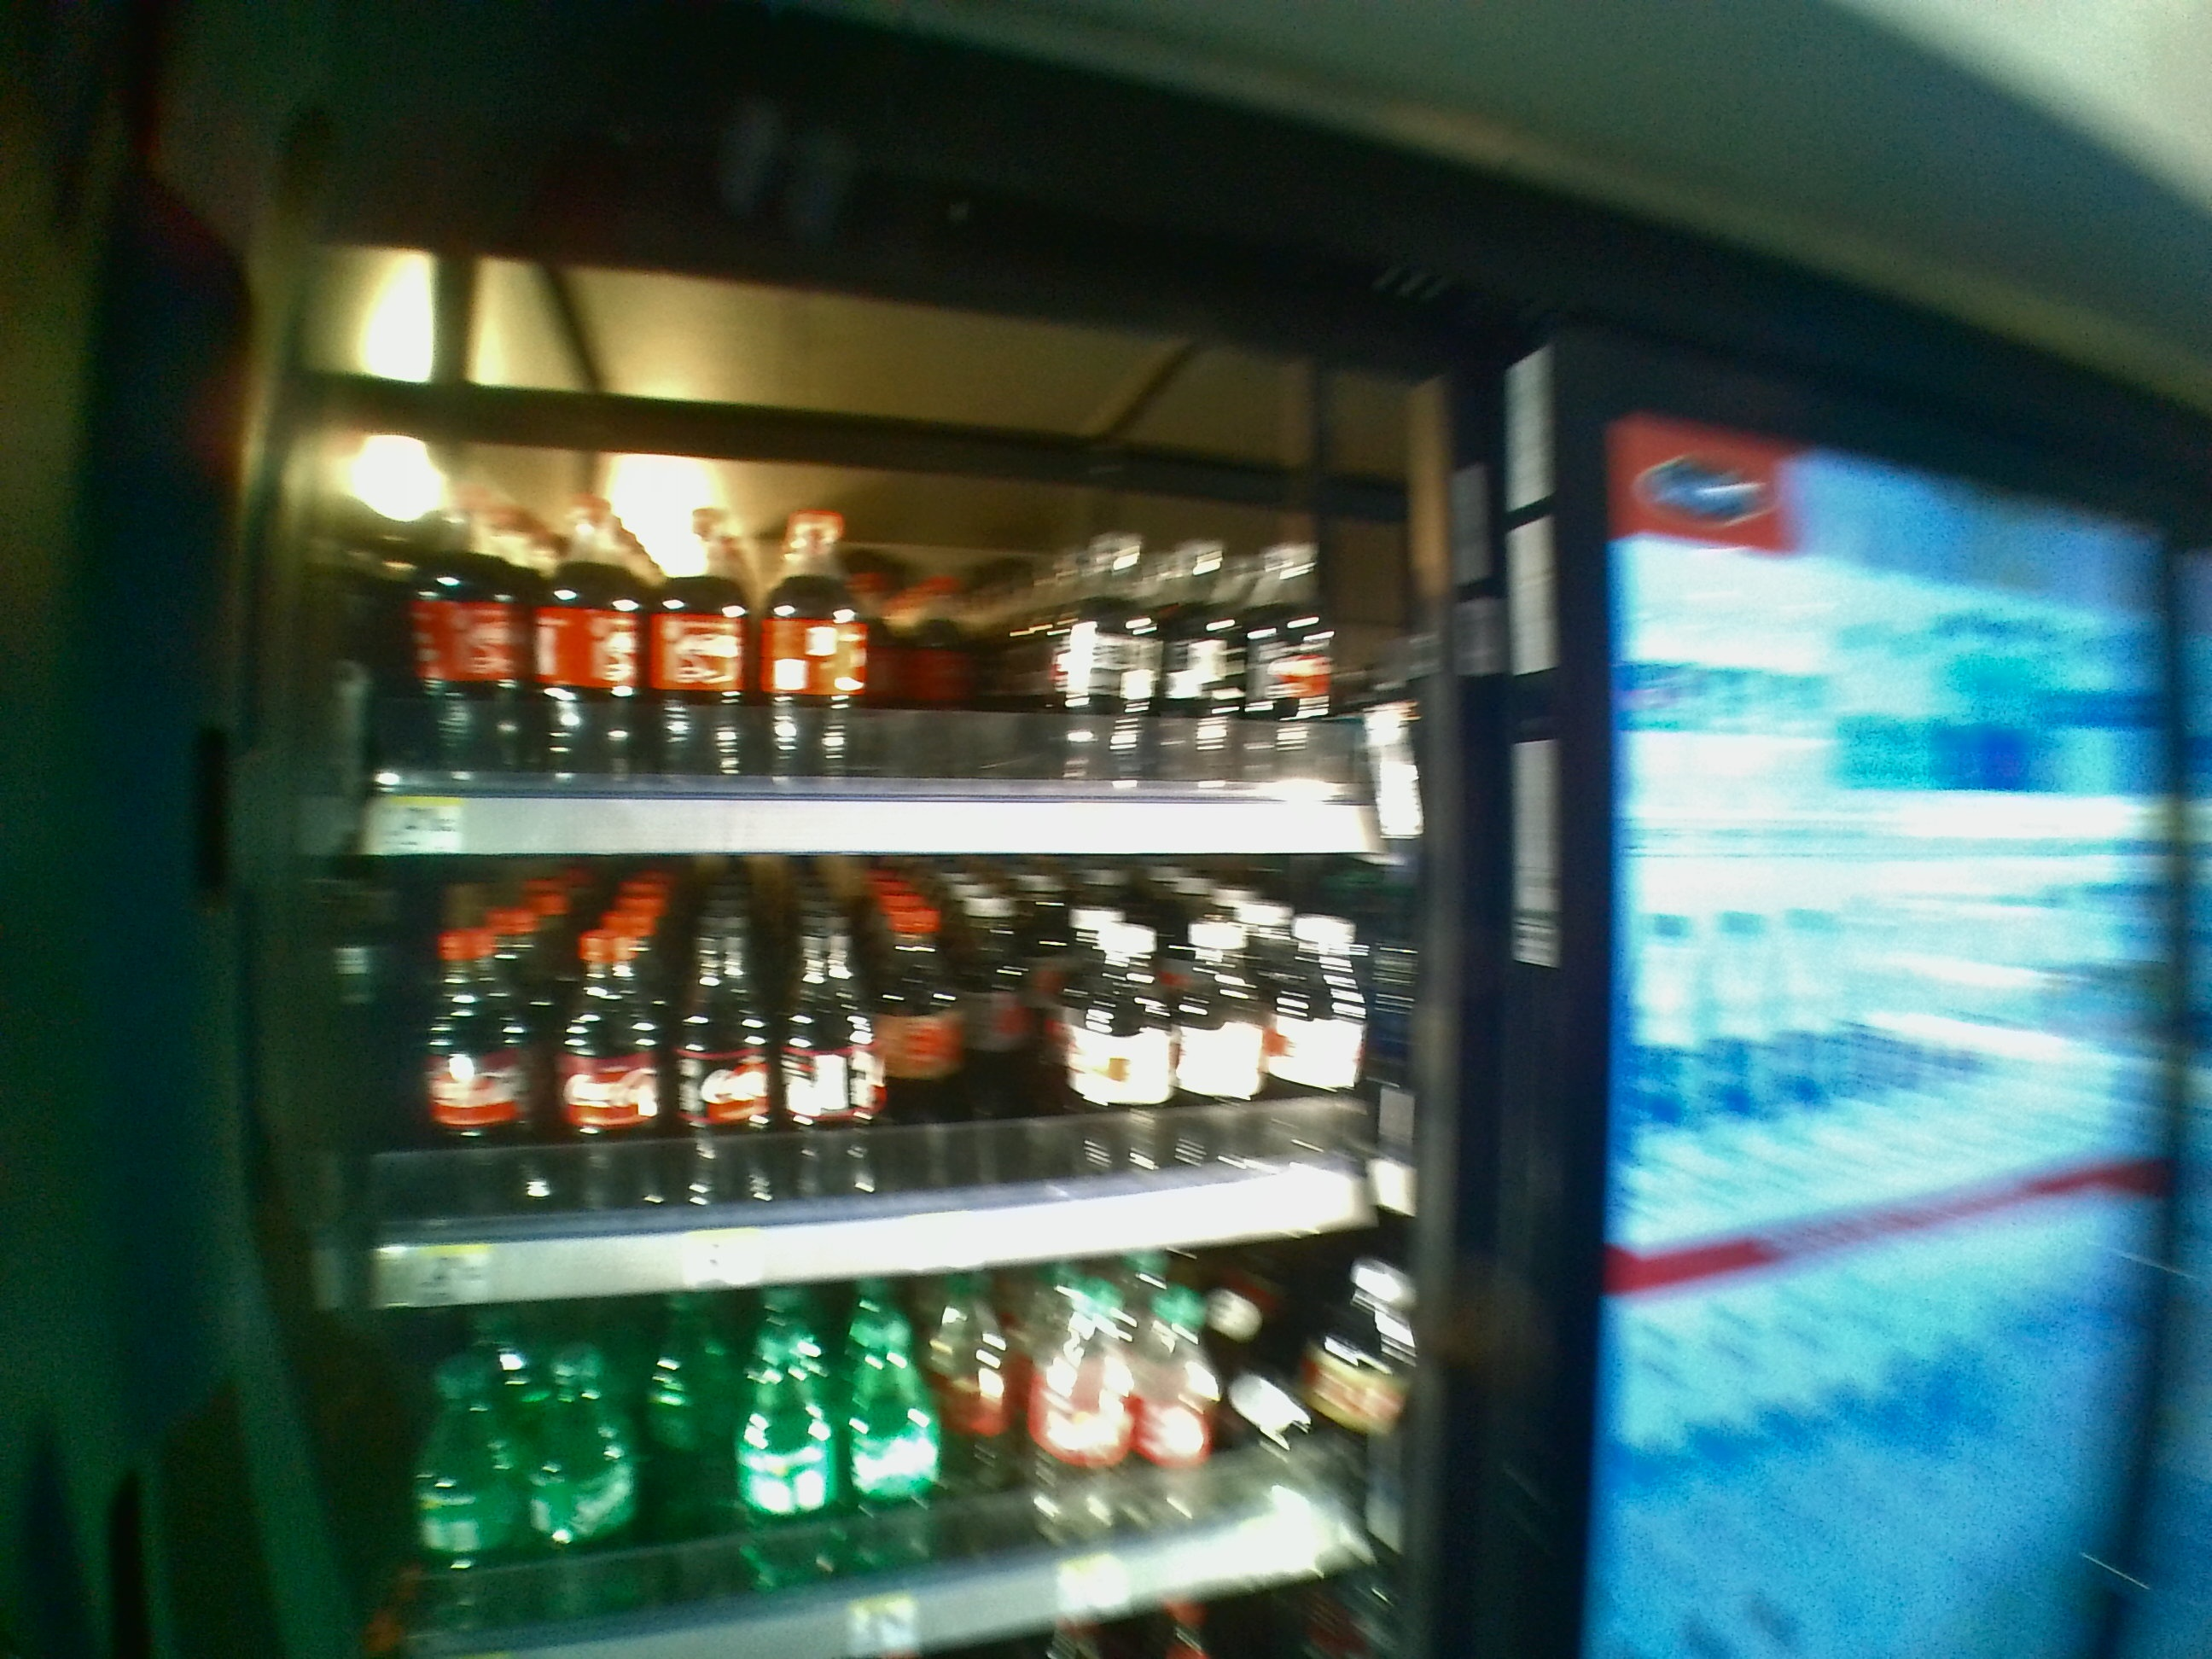shelf: (336, 272, 1433, 859), (334, 873, 1439, 1310)
